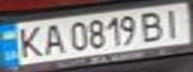0: (66, 18, 90, 52)
1: (103, 14, 124, 47)
8: (84, 16, 109, 50)
9: (118, 12, 142, 46)
A: (36, 21, 66, 56)
B: (136, 9, 169, 43)
I: (157, 6, 190, 38)
K: (9, 24, 48, 60)
